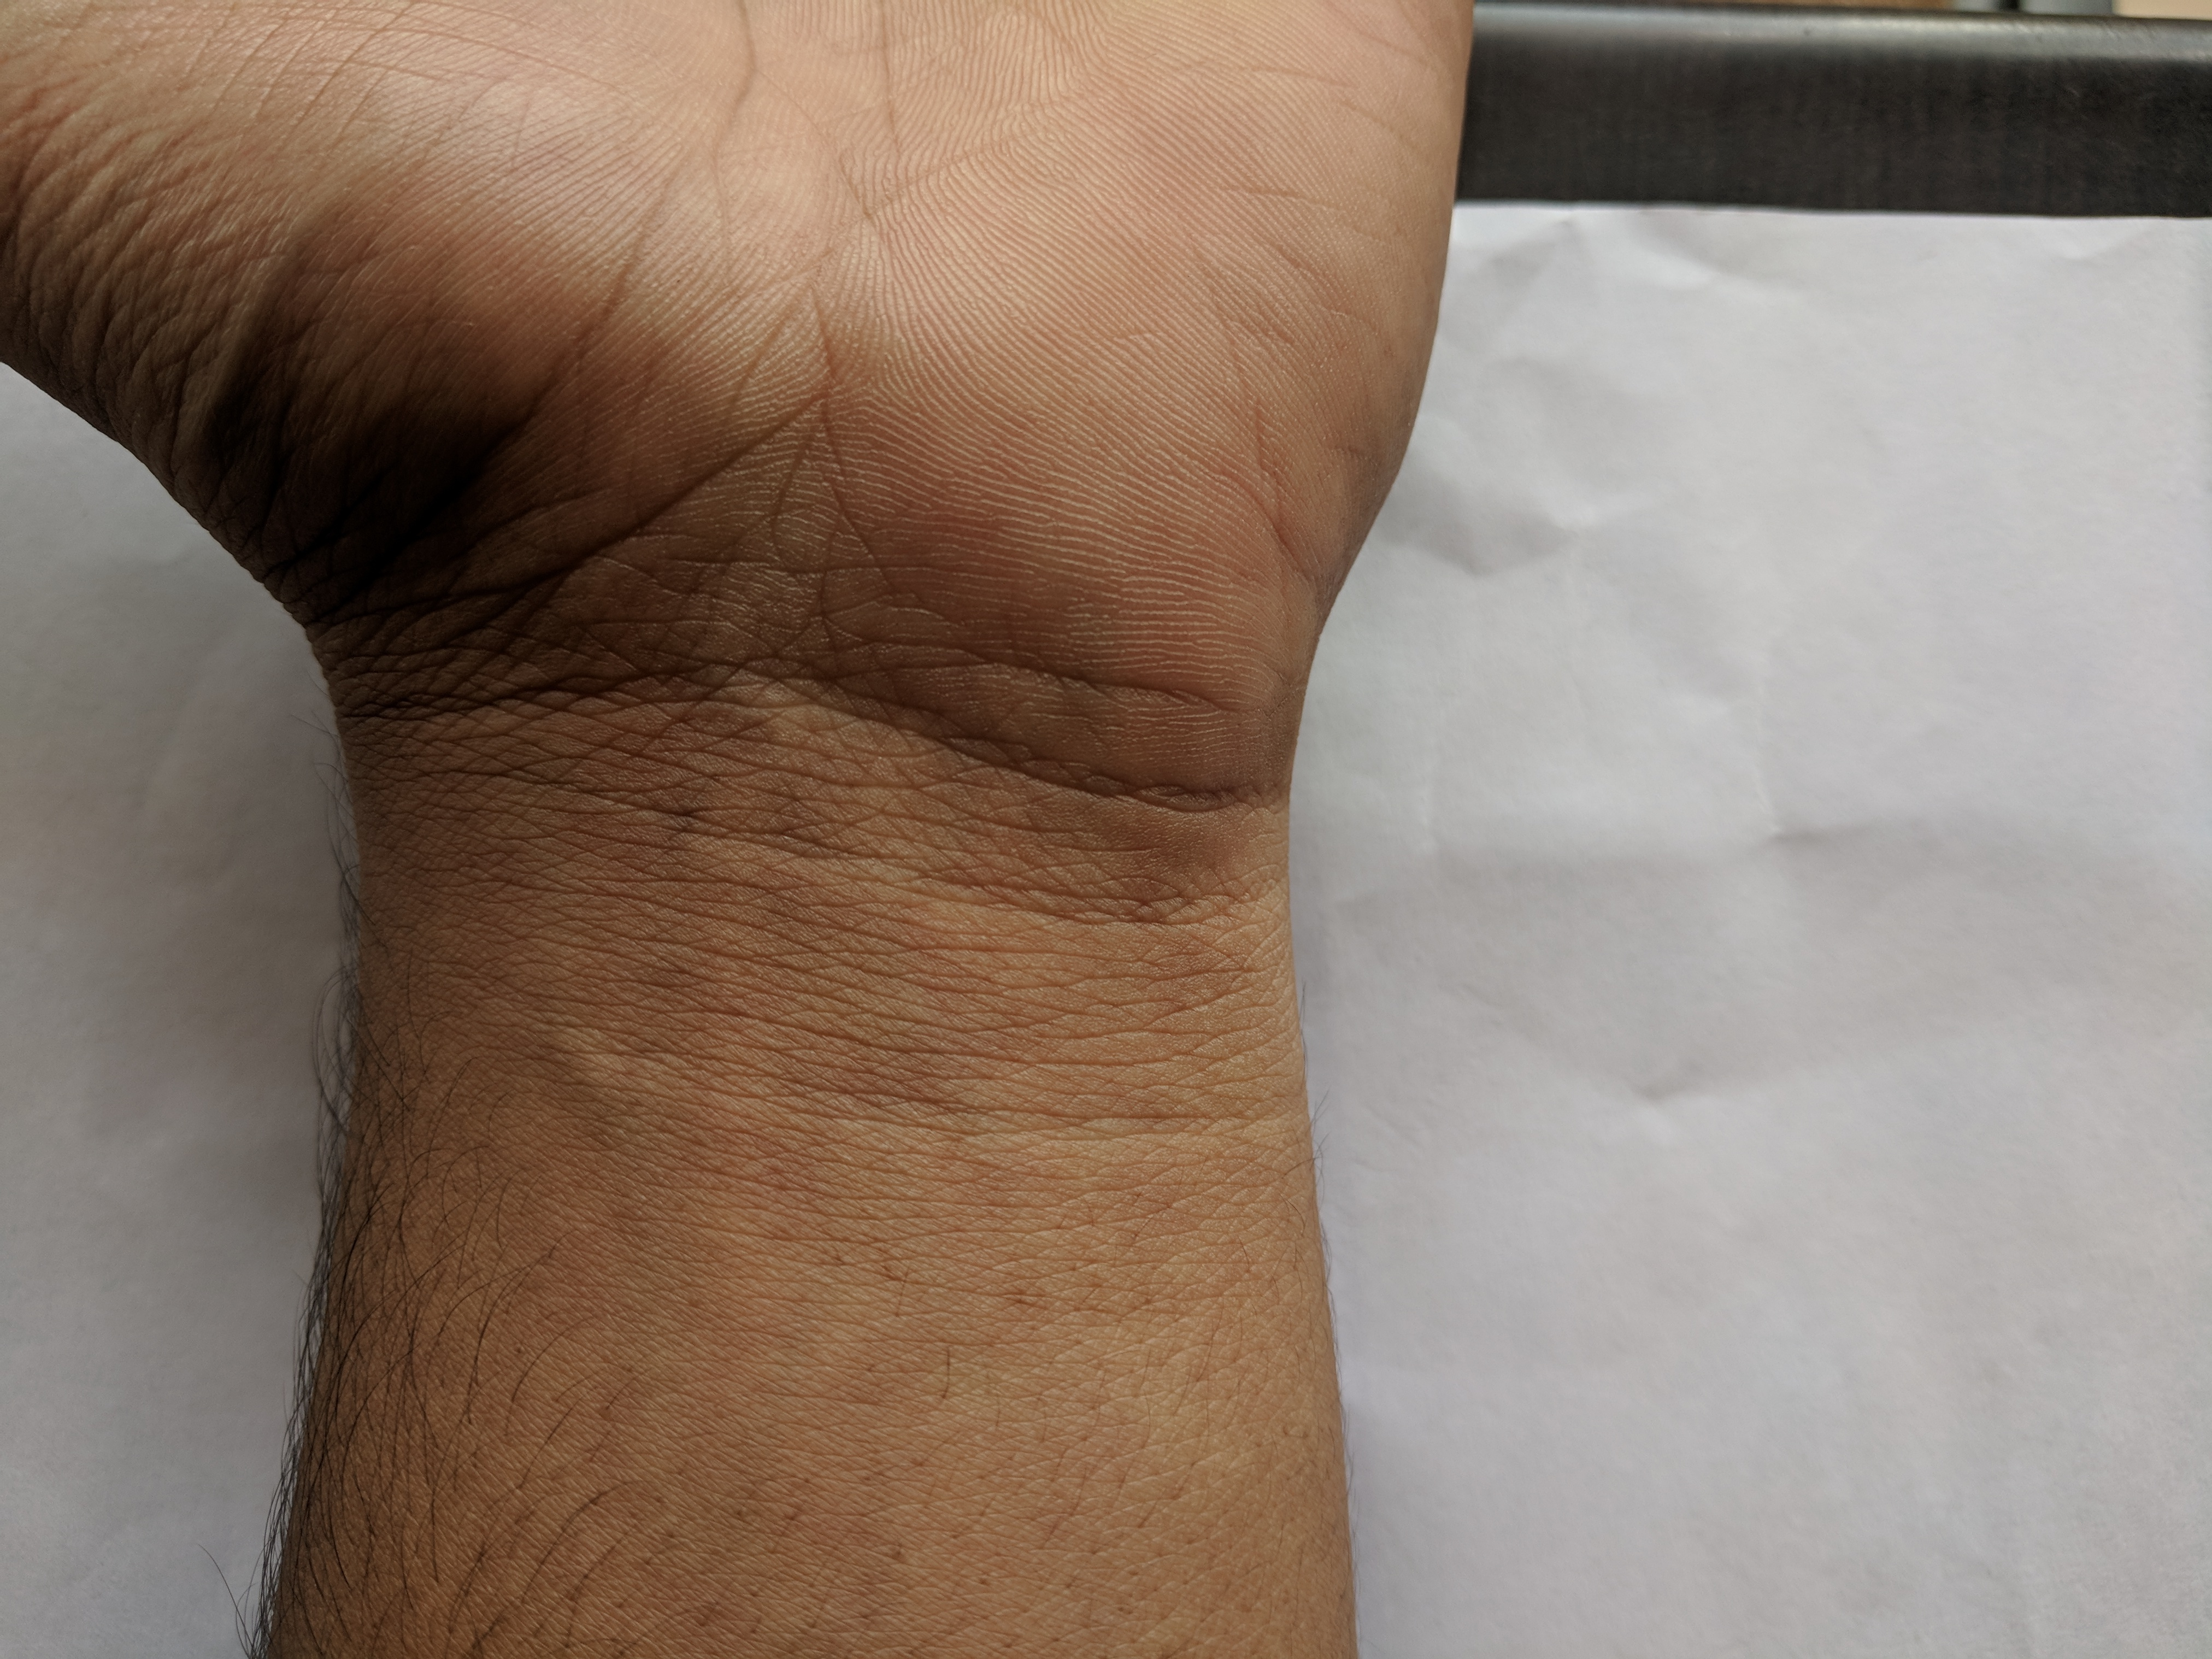lefthandwrist: (218, 537, 1369, 1077)
